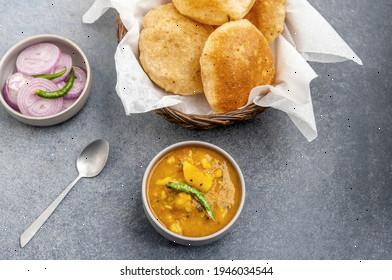puri: (136, 1, 285, 116)
